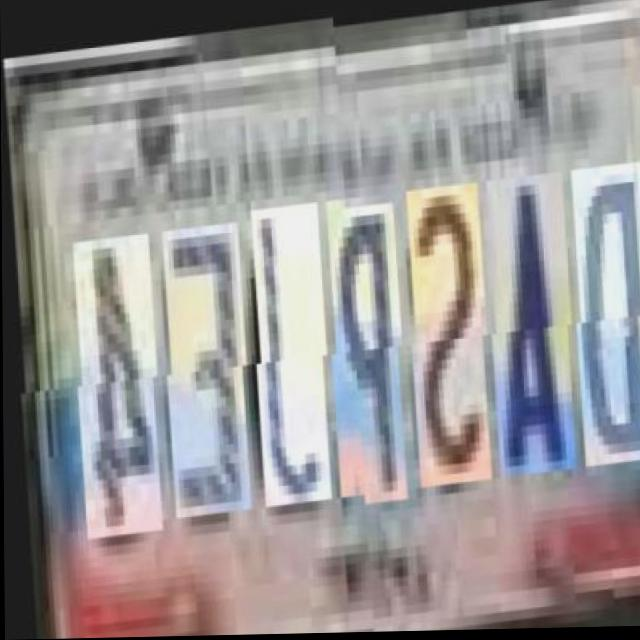4: (66, 232, 156, 536)
a: (479, 172, 570, 476)
d: (564, 164, 640, 468)
e: (156, 224, 246, 518)
j: (244, 206, 326, 510)
p: (319, 198, 401, 502)
s: (399, 180, 485, 484)
